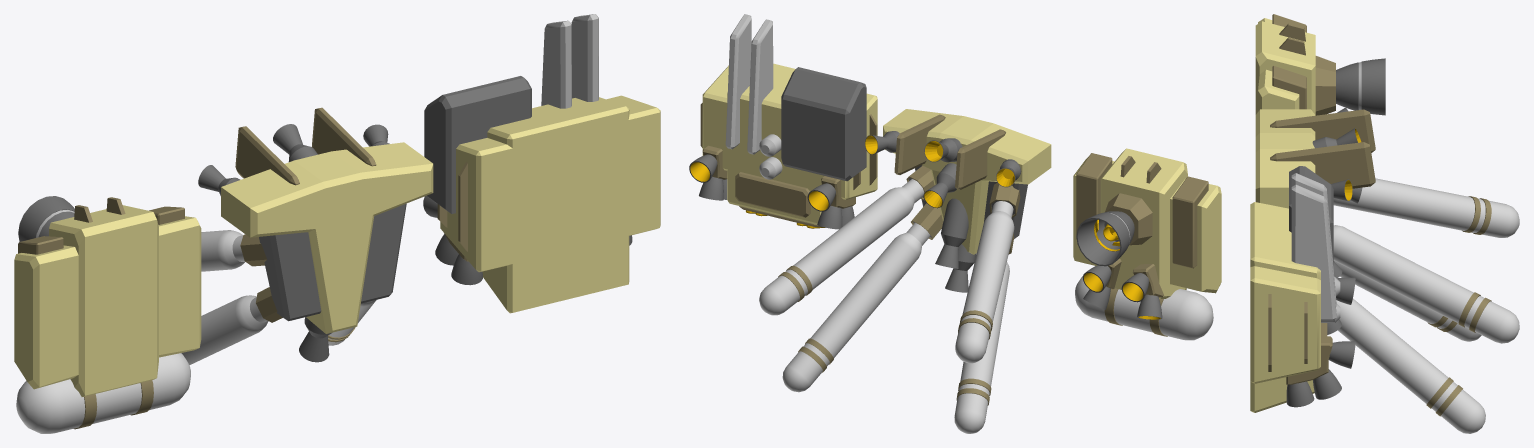
The model's file is MoreBackPacks1.fbx.
3 renders of one model, left to right at view 1: azimuth 30°, elevation 25°; view 2: azimuth 150°, elevation 25°; view 3: azimuth 270°, elevation 25°, orthographic. The views are drawn at different scales.
Parts seen in each view (by area): view 1: pCube104, pCube94, pCube80, pCube81, pCylinder50, polySurface6, pCylinder36, pCube112, pCube111, pCube89, pCylinder46, pCube90 (+9 smaller); view 2: pCube94, pCube104, pCube80, pCylinder44, pCylinder45, polySurface6, pCylinder46, pCylinder50, pCylinder36, polySurface3, pCylinder47, pCube112 (+20 smaller); view 3: pCube104, pCylinder45, pCylinder44, pCylinder46, pCube80, pCube94, pCube111, pCube90, pCylinder47, pCylinder36, pCube89, pCube96 (+12 smaller).
Part boxes in pixels (x1,y1,x2,y2): pCube104: (440,95,660,313); pCube94: (14,205,201,396); pCube80: (221,142,433,333); pCube81: (259,203,406,321); pCylinder50: (16,353,190,433); polySurface6: (424,78,531,213); pCylinder36: (181,295,268,365); pCube112: (541,20,571,108); pCube111: (571,14,598,101); pCube89: (235,126,299,185); pCylinder46: (201,230,244,271); pCube90: (312,107,376,166); pCube94: (1073,148,1221,298); pCube104: (702,63,877,224); pCube80: (883,109,1051,254); pCylinder44: (782,222,930,392); pCylinder45: (759,179,924,315); polySurface6: (781,69,866,181); pCylinder46: (955,201,1014,363); pCylinder50: (1075,276,1213,340); pCylinder36: (954,262,1009,433); polySurface3: (782,69,857,122); pCylinder47: (1076,211,1134,266); pCube112: (747,19,773,154); pCube104: (1250,202,1320,412); pCylinder45: (1333,225,1519,343); pCylinder44: (1336,298,1485,433); pCylinder46: (1333,178,1519,237); pCube80: (1255,109,1315,208); pCube94: (1255,18,1315,115); pCube111: (1291,184,1336,321); pCube90: (1270,142,1375,188); pCylinder47: (1336,58,1385,115); pCylinder36: (1334,261,1481,341); pCube89: (1270,109,1375,152); pCube96: (1315,56,1335,115).
Size of the model in its own units: 22.6 by 12.39 by 9.57.
